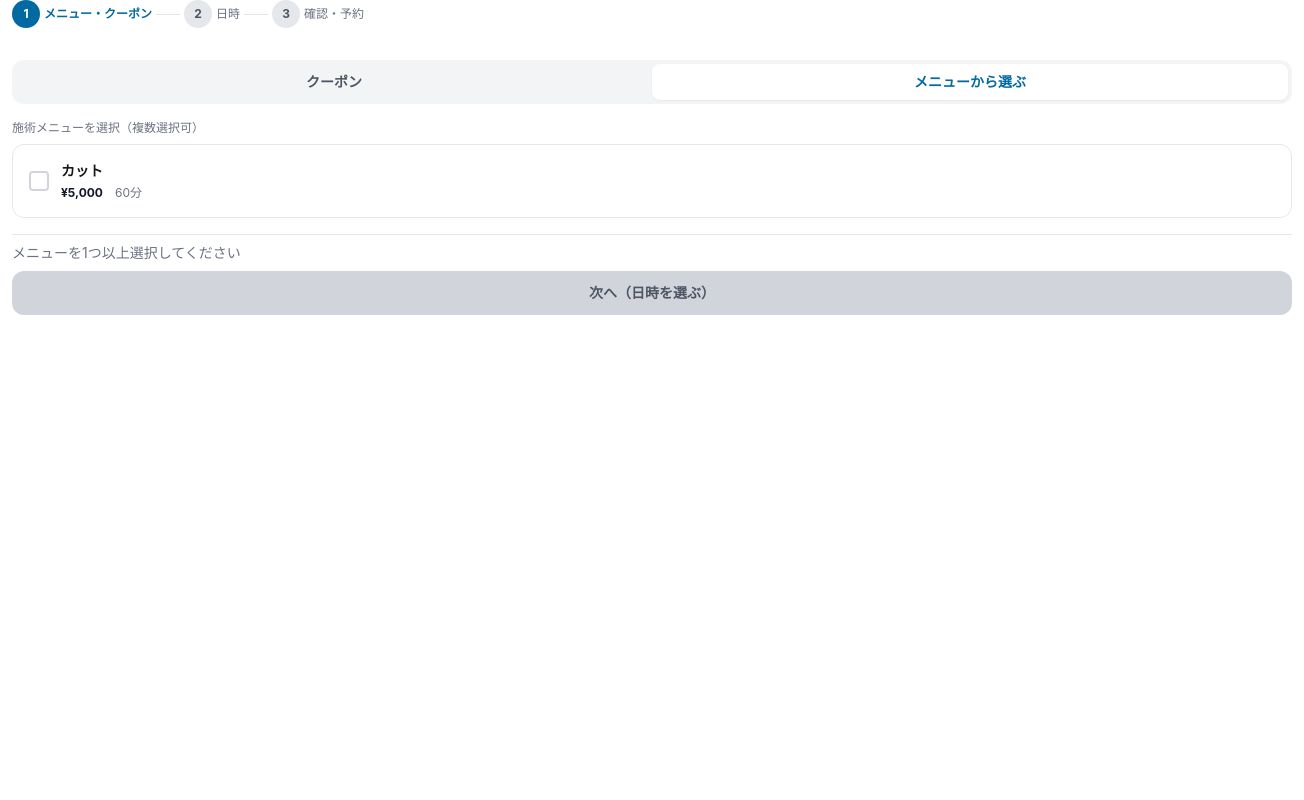
Scenario: booking displays the complete points aggregate instead of summing a capped ledger page
The width and height of the screenshot is (1304, 800).
What coordinates should you click on to do the following:
click the text "カット"
I would click on:
 (82, 171)
Its box is [61,161,103,181].
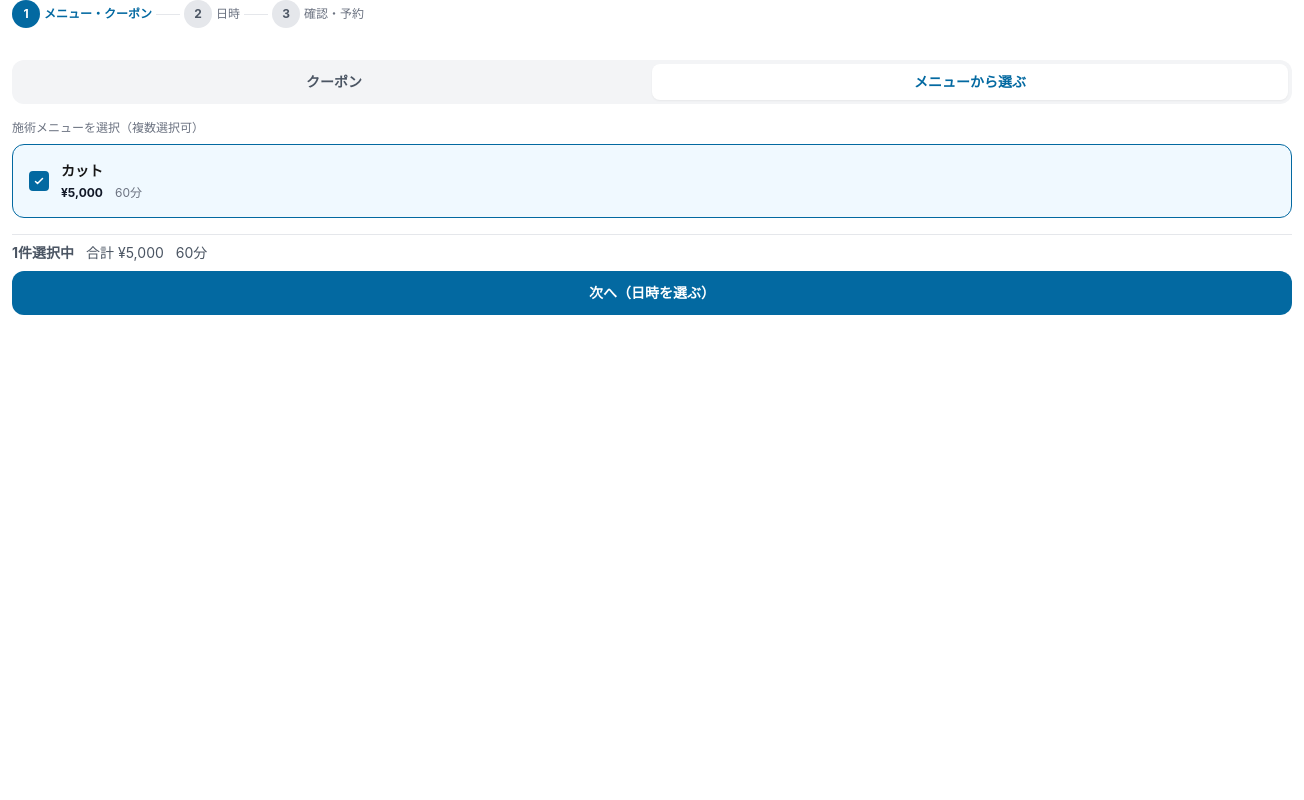
What coordinates should you click on to do the following:
click the button "次へ（日時を選ぶ）"
I would click on:
 (652, 293)
Its box is [12,271,1292,315].
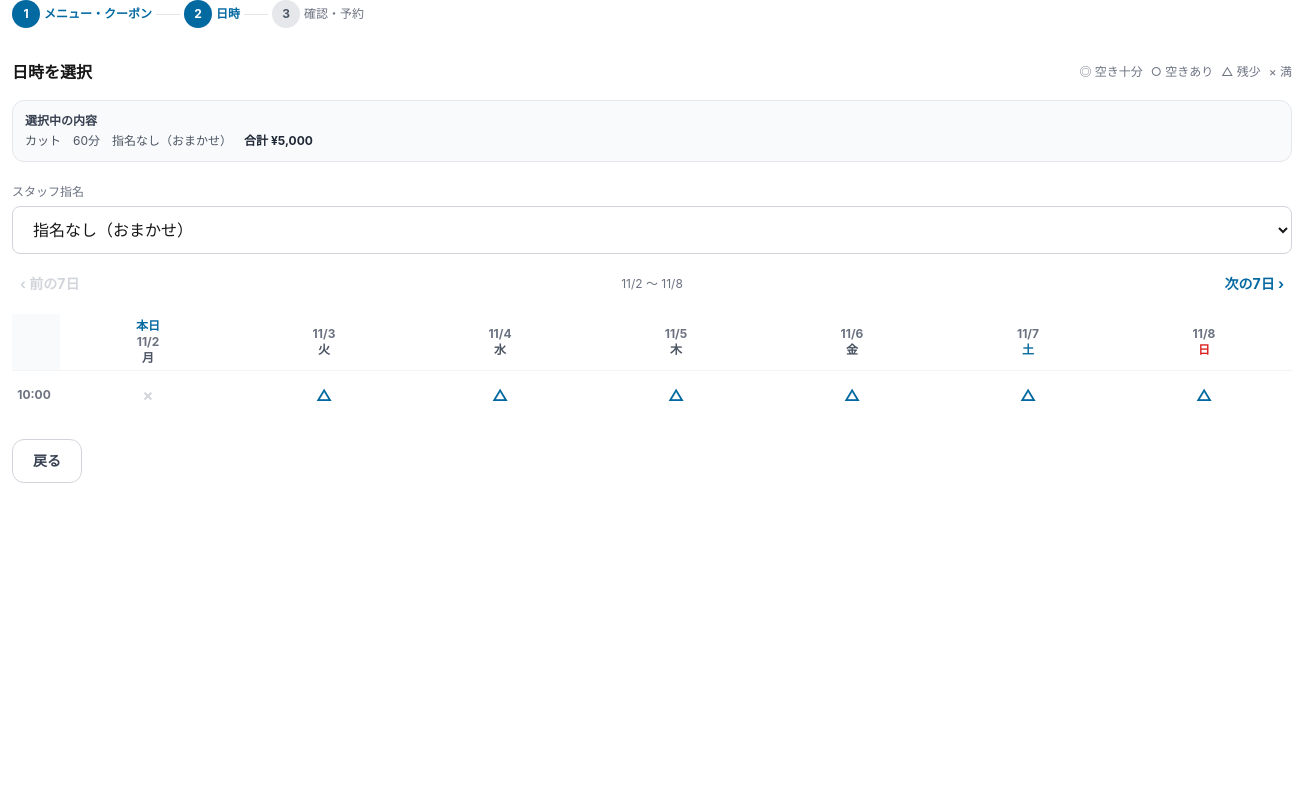
What coordinates should you click on to do the following:
click the 1st button "△"
I would click on:
 (324, 395)
Its box is [238,373,410,417].
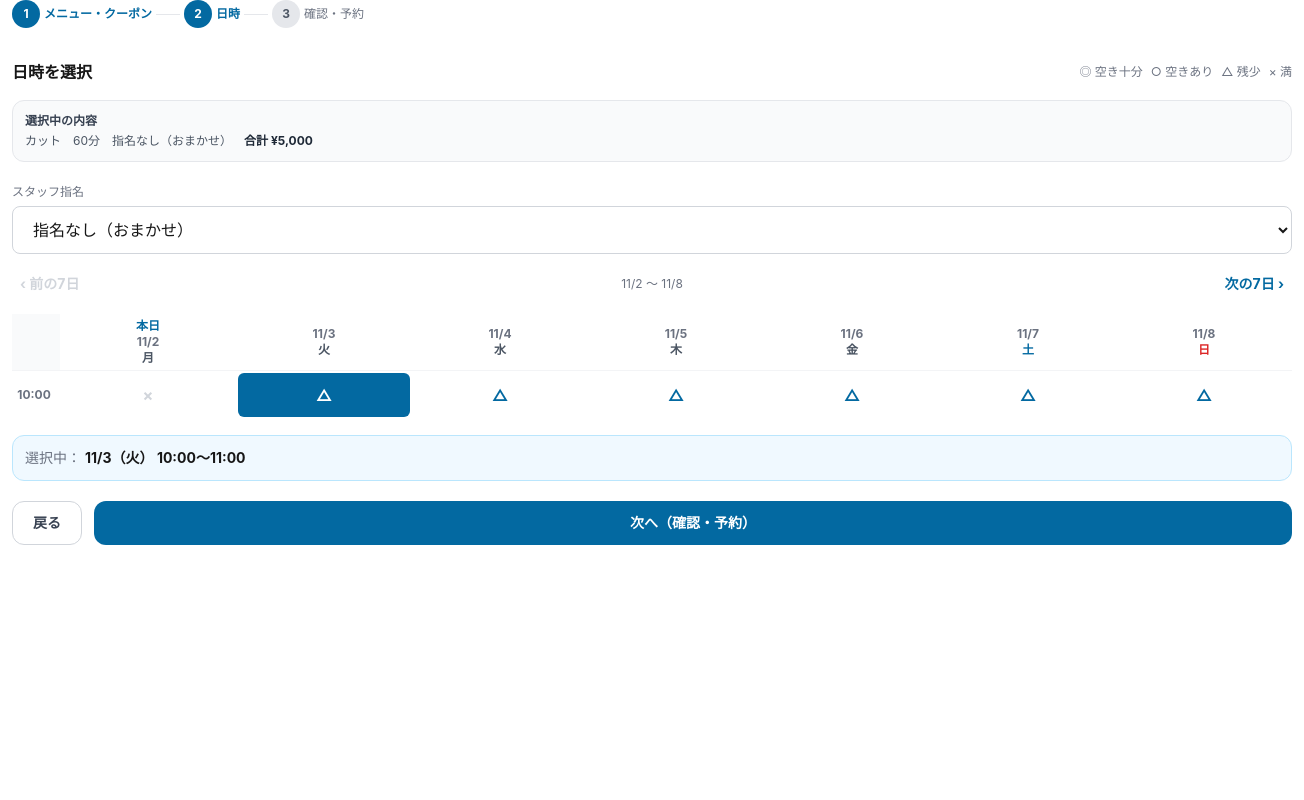
What coordinates should you click on to do the following:
click the button "次へ（確認・予約）"
I would click on:
 (693, 523)
Its box is [94,501,1292,545].
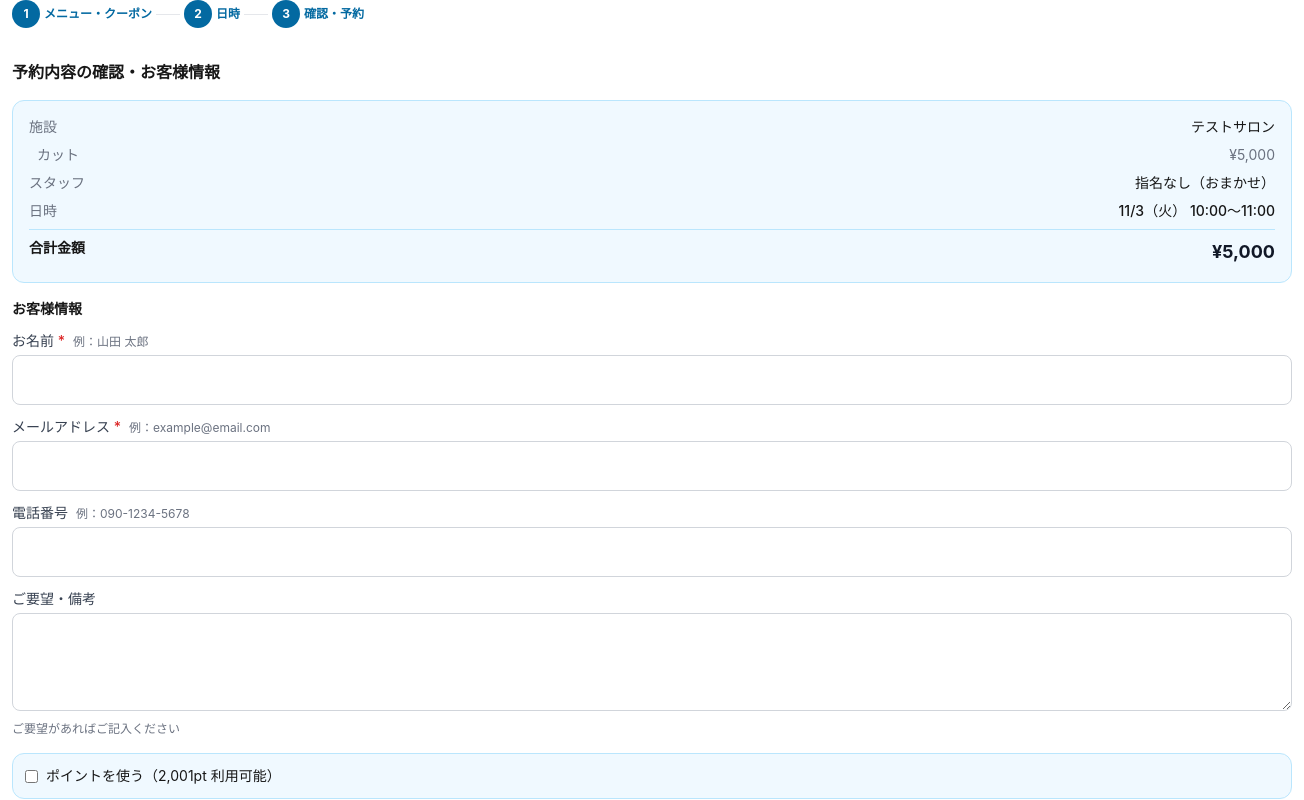
Now the heading "予約内容の確認・お客様情報" is shown, box [12,62,220,82]
Now the text "ポイントを使う（2,001pt 利用可能）" is shown, box [46,766,281,786]
